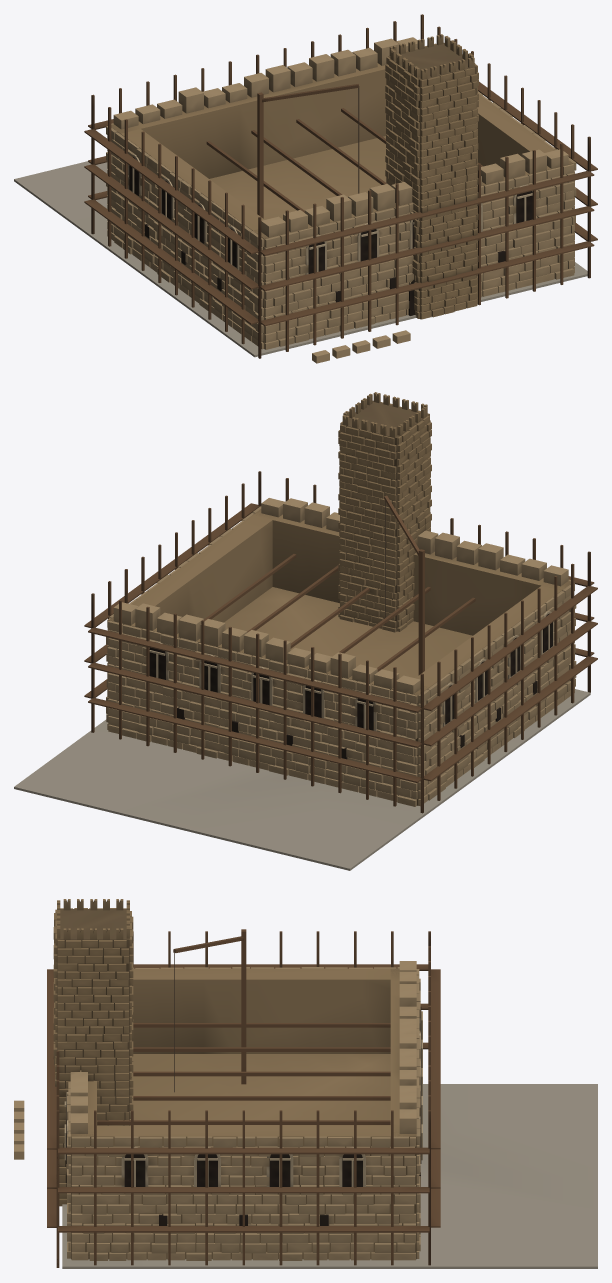
The model's file is palazzo-vecchio-1300.glb.
3 renders of one model, top to bottom at view 1: azimuth 30°, elevation 25°; view 2: azimuth 150°, elevation 25°; view 3: azimuth 270°, elevation 25°, orthographic. The views are drawn at different scales.
Parts seen in each view (by area): view 1: p0_walls, p1_scaffolding; view 2: p0_walls, p1_scaffolding; view 3: p0_walls, p1_scaffolding.
Part boxes in pixels (x1,y1,x2,y2): p0_walls: (14,34,587,357); p1_scaffolding: (84,14,597,363); p0_walls: (14,392,590,870); p1_scaffolding: (84,471,597,813); p0_walls: (53,899,597,1268); p1_scaffolding: (14,929,440,1267).
Bounding box in the file's own units: 51.6 × 35.27 × 67.6.
